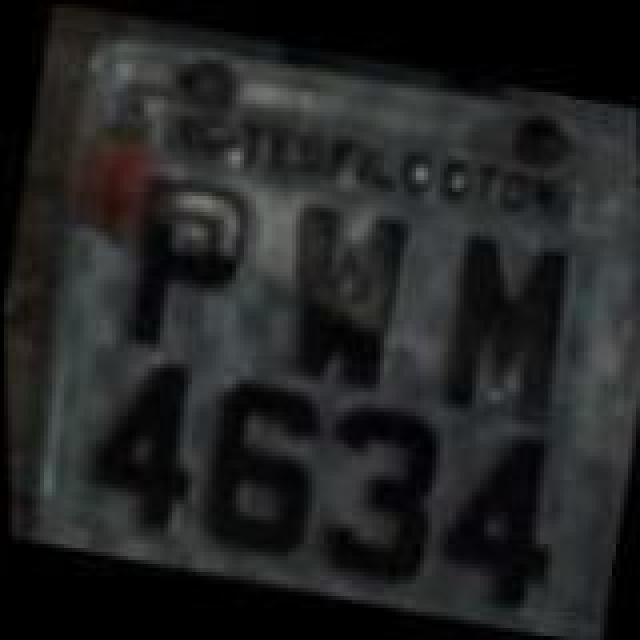3: (290, 388, 462, 592)
4: (422, 410, 574, 614), (74, 340, 222, 548)
6: (176, 366, 336, 570)
M: (426, 218, 590, 434)
P: (104, 166, 272, 370)
W: (266, 194, 422, 402)
